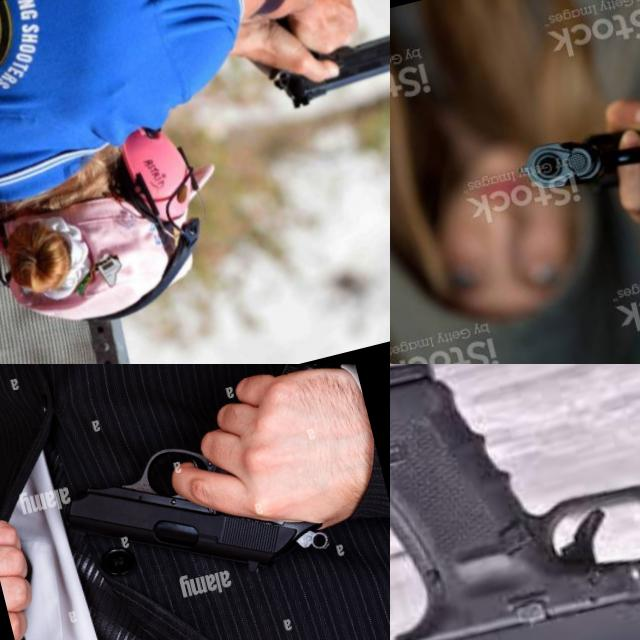handgun: (24, 364, 390, 623), (390, 364, 640, 640), (245, 0, 390, 116), (508, 107, 640, 218)
